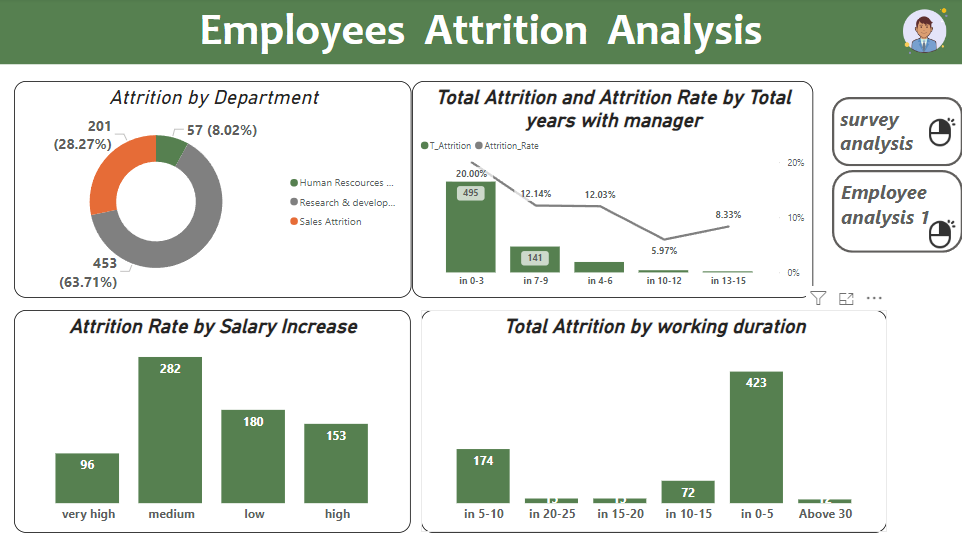

Layout of this report page (visuals, bound fields, positions):
{"tool":"powerbi","page":{"name":"employees analysis 2","canvas":[1280,720],"ordinal":1},"visuals":[{"type":"donutChart","title":" Attrition by Department","fields":{"Y":["Measures_.Human Rescources Attrition","Measures_.Research & development Attrition","Measures_.Sales Attrition"]},"box":[20.5,109.8,528.3,288.3],"z":0},{"type":"columnChart","title":" Attrition Rate by Salary Increase","fields":{"Category":["Fact_Table.salary+"],"Y":["Measures_.T_Attrition"]},"box":[20.5,414.1,526.8,295.6],"z":1000},{"type":"lineStackedColumnComboChart","title":"Total Attrition and Attrition Rate by Total years with manager","fields":{"Y":["Measures_.T_Attrition"],"Y2":["Measures_.Attrition_Rate"],"Category":["Fact_Table.working_with_manager"]},"box":[548.8,109.8,532.7,288.3],"z":2000},{"type":"columnChart","title":"Total Attrition  by working duration","fields":{"Category":["Fact_Table.working duration"],"Y":["Measures_.T_Attrition"]},"box":[560.5,414.1,619,295.6],"z":3000},{"type":"actionButton","box":[1106,132,174,92],"z":4000},{"type":"actionButton","box":[1106,228,174,110],"z":5000},{"type":"textbox","box":[0,0,1280,88],"z":6000},{"type":"image","box":[1180,0,100,88],"z":7000},{"type":"image","box":[1224,290,56,48],"z":8000},{"type":"image","box":[1224,154,56,48],"z":9000}]}

Visuals, with their boxes in screenshot pixels (x1, y1, x2, y2), scaled from the page's 1280x720 canvas onto the 962x535 screenshot:
" Attrition by Department" donutChart: 15/82/412/296
" Attrition Rate by Salary Increase" columnChart: 15/308/411/527
"Total Attrition and Attrition Rate by Total years with manager" lineStackedColumnComboChart: 412/82/813/296
"Total Attrition  by working duration" columnChart: 421/308/886/527
actionButton: 831/98/961/166
actionButton: 831/169/961/251
textbox: 0/0/961/65
image: 887/0/961/65
image: 920/215/961/251
image: 920/114/961/150
